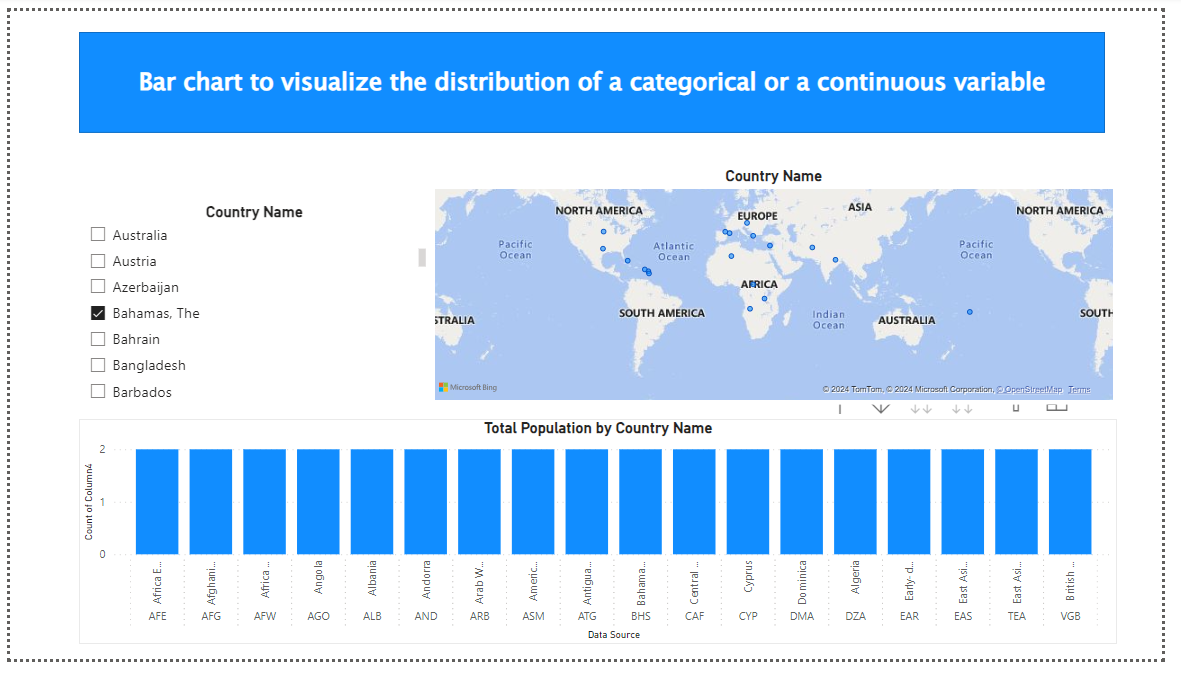

What the dashboard file says about the page in this screenshot:
{"tool":"powerbi","page":{"name":"Page 1","canvas":[1280,720],"ordinal":0},"visuals":[{"type":"clusteredColumnChart","title":"   Total Population by Country Name","fields":{"Y":["CountNonNull(Metadata_Indicator_API_SP POP TOTL_DS2_en_csv_v2_408800.Column4)"],"Category":["API_SP POP TOTL_DS2_en_csv_v2_408800.World Development Indicators","API_SP POP TOTL_DS2_en_csv_v2_408800.Data Source"]},"box":[76,454,1154,250],"z":0},{"type":"map","title":"Country Name","fields":{"Category":["API_SP POP TOTL_DS2_en_csv_v2_408800.World Development Indicators","API_SP POP TOTL_DS2_en_csv_v2_408800.Data Source"]},"box":[466,174,764,264],"z":1000},{"type":"slicer","title":"Country Name","fields":{"Values":["API_SP POP TOTL_DS2_en_csv_v2_408800.Data Source"]},"box":[76,214,390,224],"z":2000},{"type":"shape","box":[76,24,1140,112],"z":3000}]}

Visuals, with their boxes in screenshot pixels (x1, y1, x2, y2), scaled from the page's 1280x720 canvas onto the 1181x674 screenshot:
"   Total Population by Country Name" clusteredColumnChart: {"left": 70, "top": 425, "right": 1135, "bottom": 659}
"Country Name" map: {"left": 430, "top": 163, "right": 1135, "bottom": 410}
"Country Name" slicer: {"left": 70, "top": 200, "right": 430, "bottom": 410}
shape: {"left": 70, "top": 22, "right": 1122, "bottom": 127}
